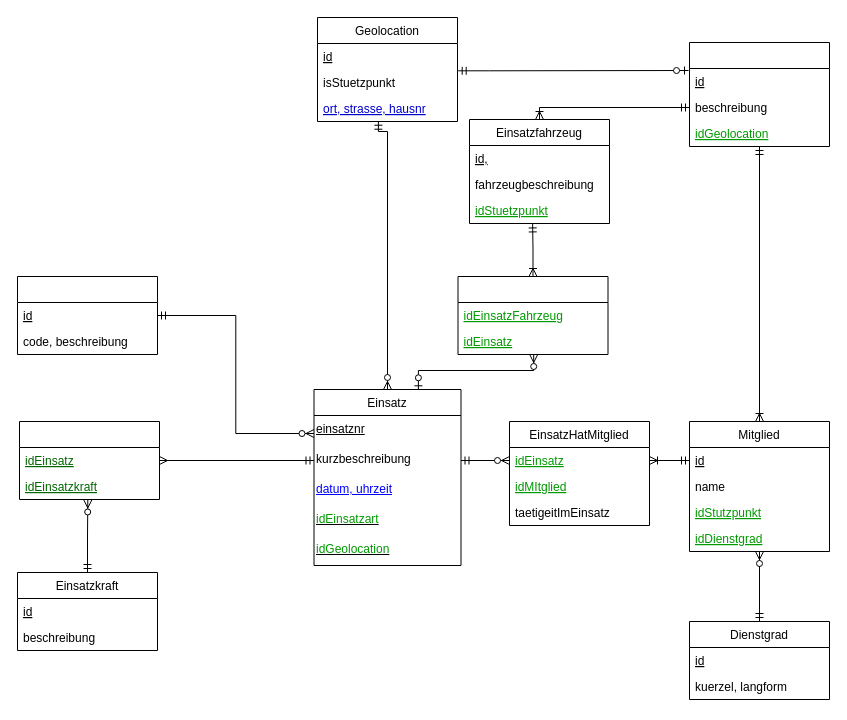
The diagram is 847 pixels wide and 720 high, and some of its shapes have lost their labels. Each missing label, with the box of its shape:
Einsatzart: (16, 276, 158, 354)
EinsatzHatEinsatzfahrzeug: (457, 276, 608, 354)
EinsatzHatEinsatzkraft: (18, 420, 160, 500)
Stuetzpunkt: (688, 42, 830, 146)
